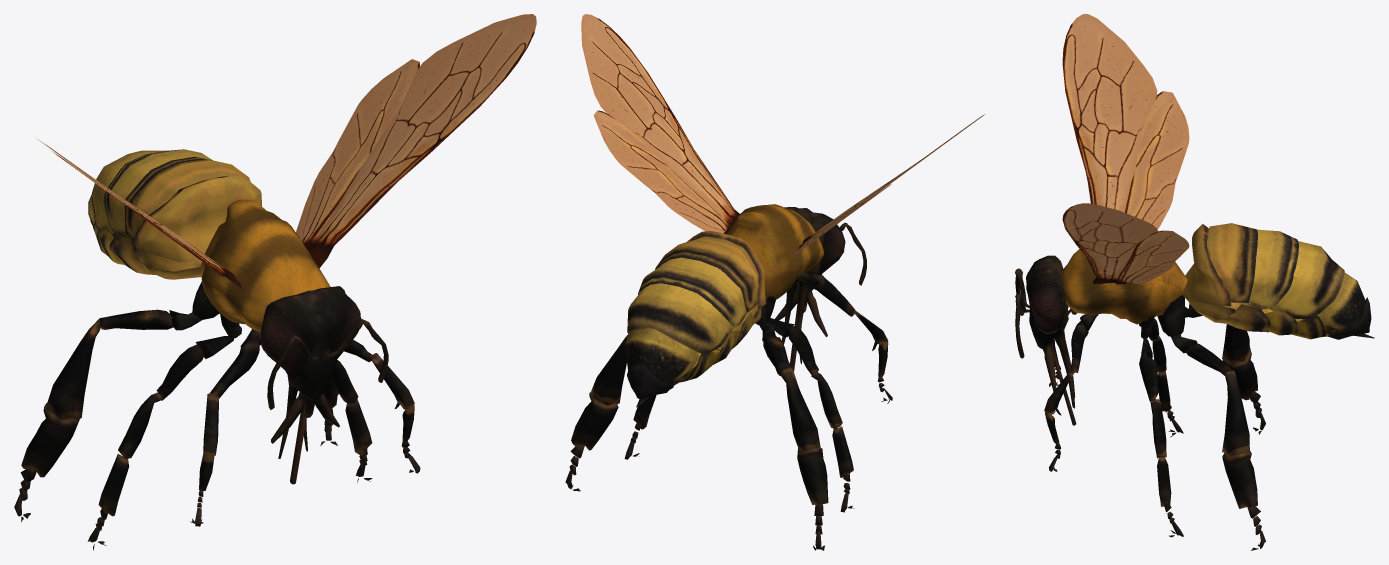
Rendered from honey bee.fbx.
3 renders of one model, left to right at view 1: azimuth 30°, elevation 25°; view 2: azimuth 150°, elevation 25°; view 3: azimuth 270°, elevation 25°, orthographic. The views are drawn at different scales.
Parts seen in each view (by area): view 1: wing01R, leg03R, group_abdomen, pelo, polySurface1, eyes, ant; view 2: group_abdomen, wing01R, leg03R, pelo, polySurface1, eyes; view 3: wing01R, group_abdomen, leg03R, pelo, polySurface1, eyes, ant.
Part boxes in pixels (box(x1,y1,x2,y2)): wing01R: box(36, 14, 536, 288); leg03R: box(14, 281, 420, 550); group_abdomen: box(88, 149, 261, 279); pelo: box(201, 199, 330, 332); polySurface1: box(269, 286, 347, 484); eyes: box(260, 294, 361, 376); ant: box(267, 319, 388, 409); group_abdomen: box(625, 231, 766, 407); wing01R: box(581, 14, 985, 257); leg03R: box(565, 271, 892, 550); pelo: box(724, 204, 823, 299); polySurface1: box(775, 207, 833, 371); eyes: box(818, 224, 845, 274); wing01R: box(1062, 14, 1189, 284); group_abdomen: box(1183, 223, 1374, 339); leg03R: box(1044, 295, 1265, 550); pelo: box(1060, 230, 1187, 324); polySurface1: box(1026, 255, 1076, 425); eyes: box(1028, 257, 1064, 332); ant: box(1015, 268, 1029, 358).
Bounding box in the file's own units: 1.3 × 1.22 × 1.03.
